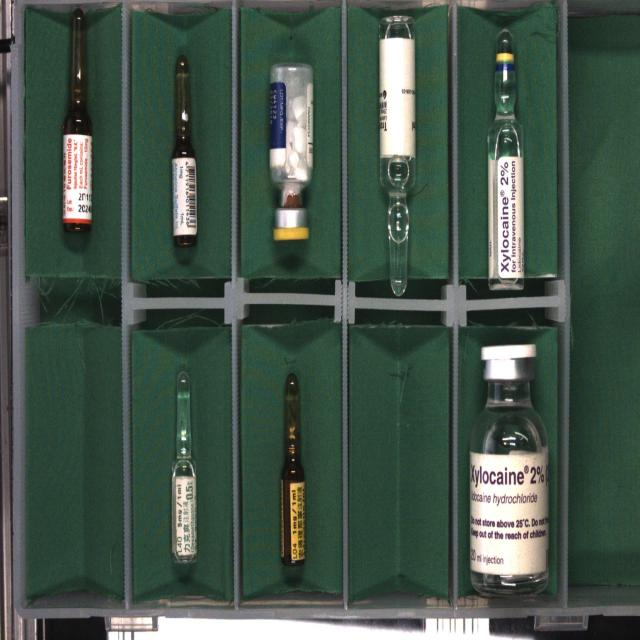Vials: (469, 343, 549, 596), (269, 63, 313, 241)
